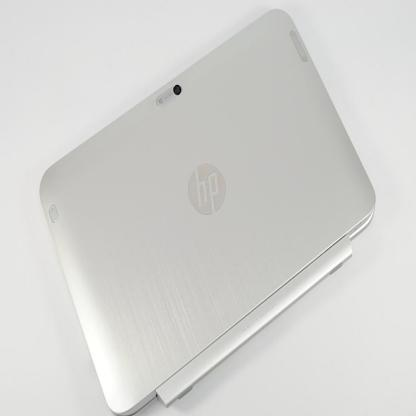board: (54, 13, 366, 398)
